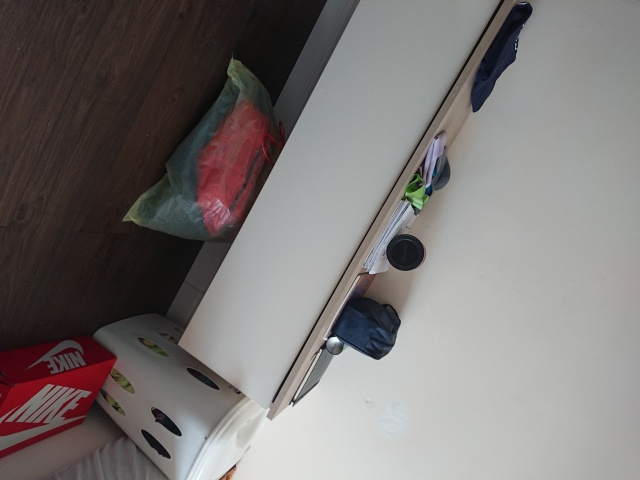Nescafe Classic 225g: (384, 232, 428, 273)
